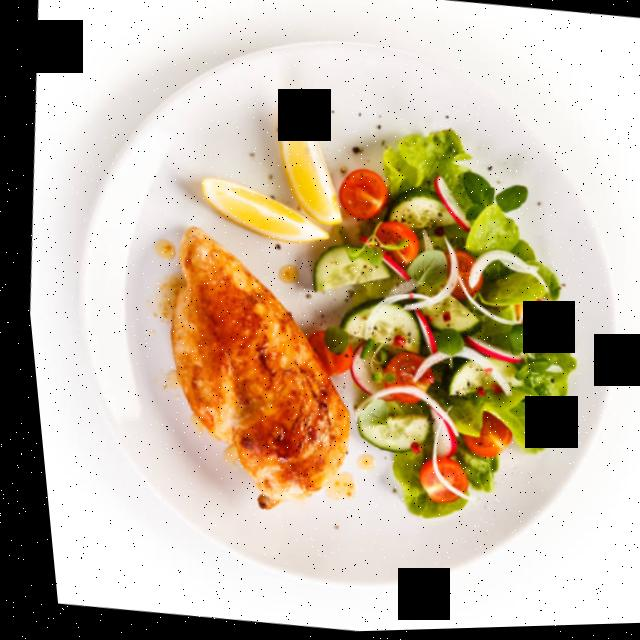Frango: (131, 219, 371, 524)
